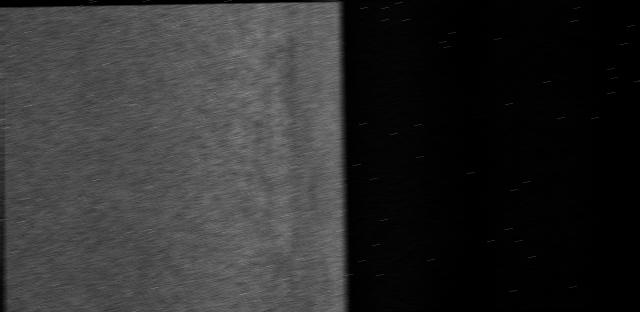silk_spot: (167, 14, 306, 312)
